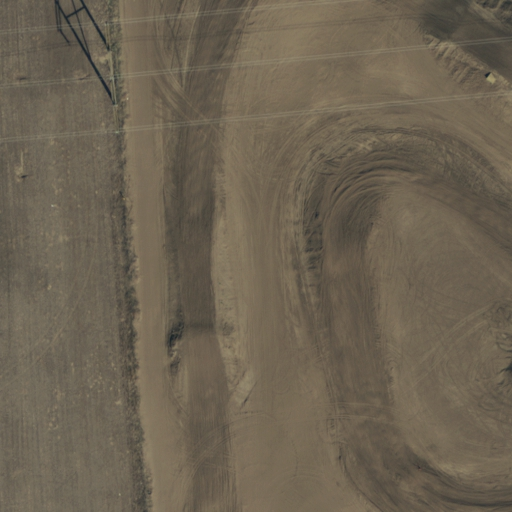TT: (88, 13, 134, 143)
